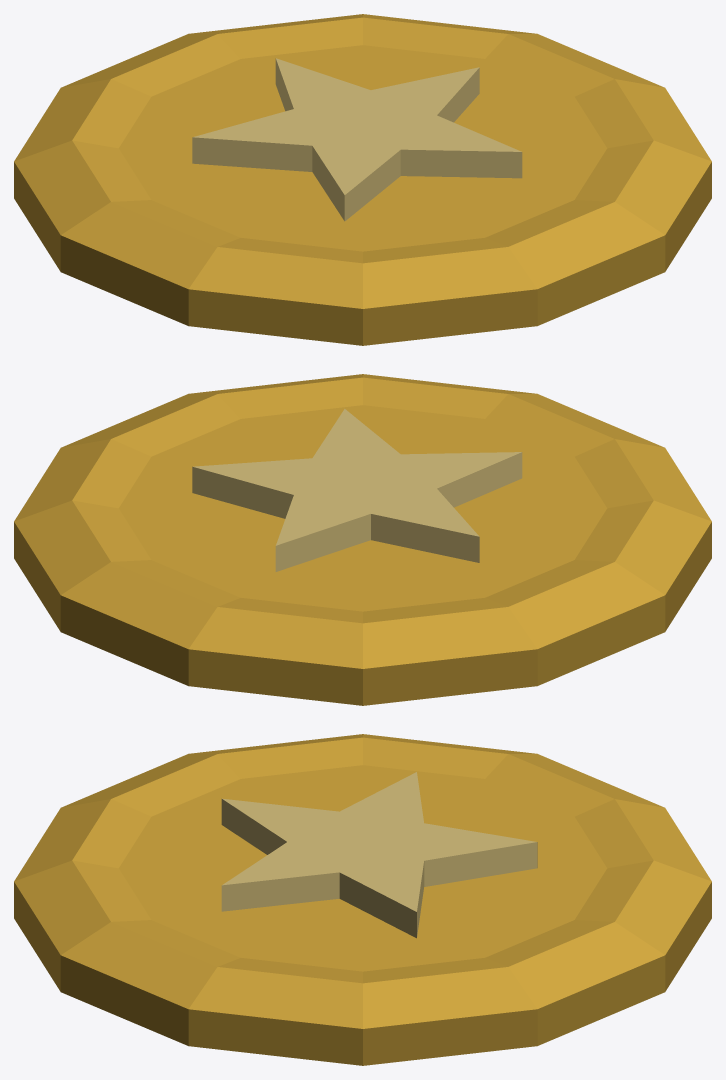
The model's file is coin.glb.
3 renders of one model, top to bottom at view 1: azimuth 30°, elevation 25°; view 2: azimuth 150°, elevation 25°; view 3: azimuth 270°, elevation 25°, orthographic.
Visible parts, largest first — view 1: Coin; view 2: Coin; view 3: Coin.
Boxes of the visible parts, x1,y1,x2,y2 form: Coin: (14,14,711,345); Coin: (14,374,711,705); Coin: (14,734,711,1065).
Bounding box in the file's own units: 0.12 × 0.0185 × 0.12.
